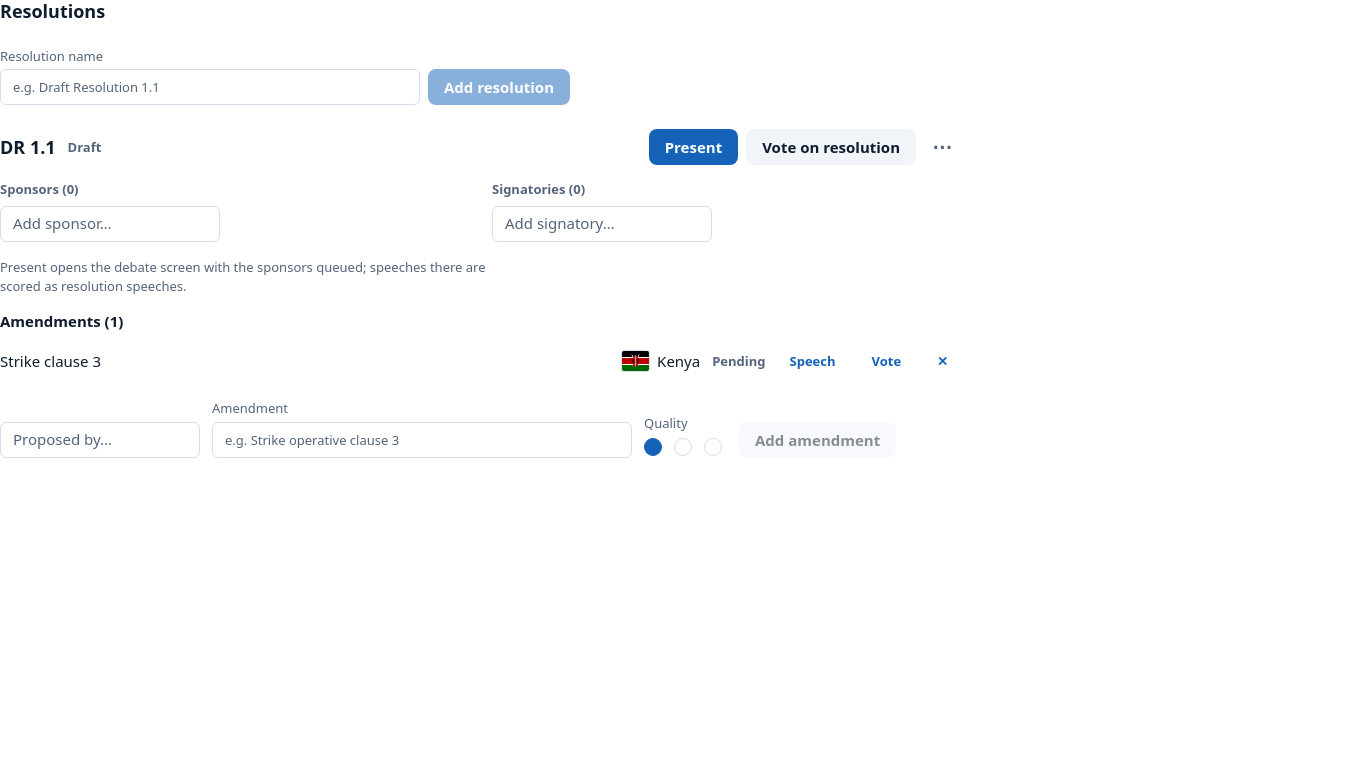
Test: ResolutionsPanel › amendment speech modal
Step 1. Click the button "Speech" → (812, 361), box [778,347,848,375]
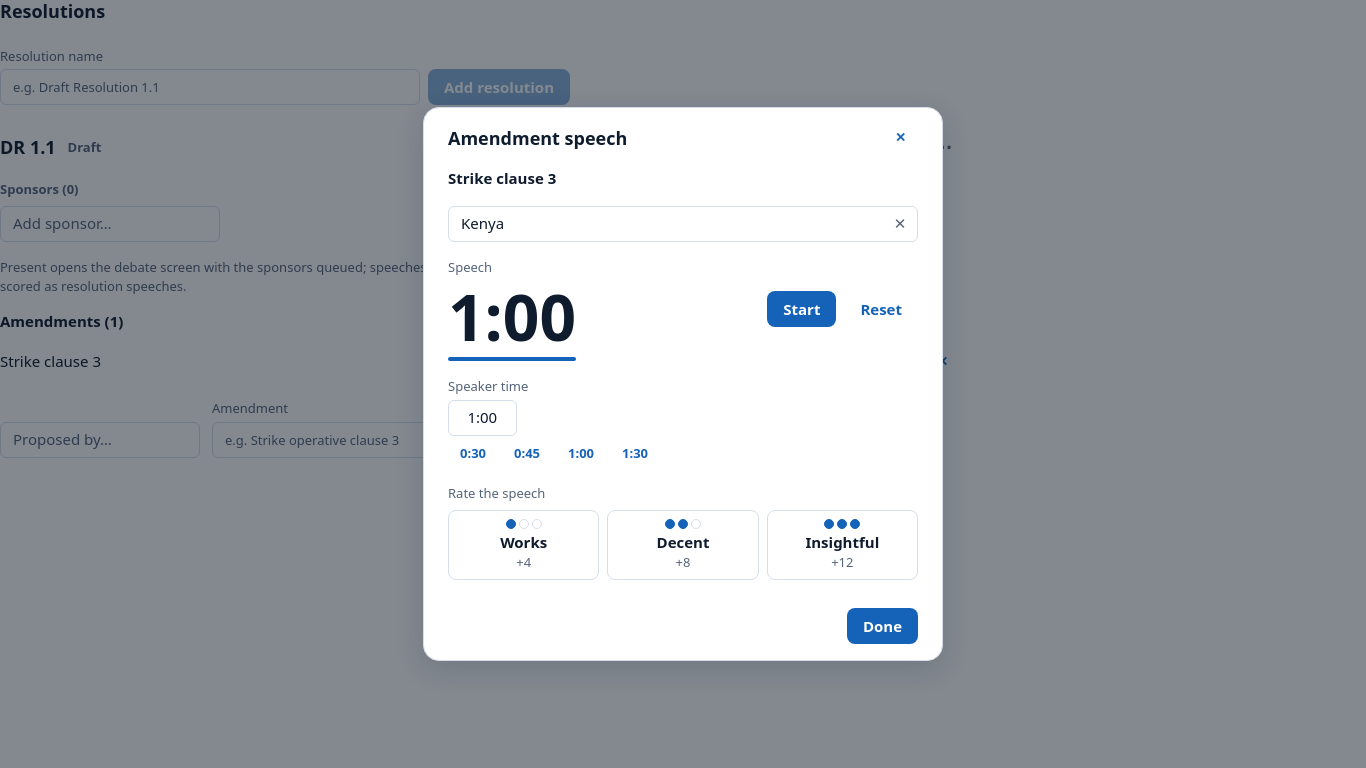
Expected: the dropdown named "Speaker" holds "Kenya", [448,206,918,242]
Step 2. Click the button "Start" → (802, 309), box [767,291,836,327]
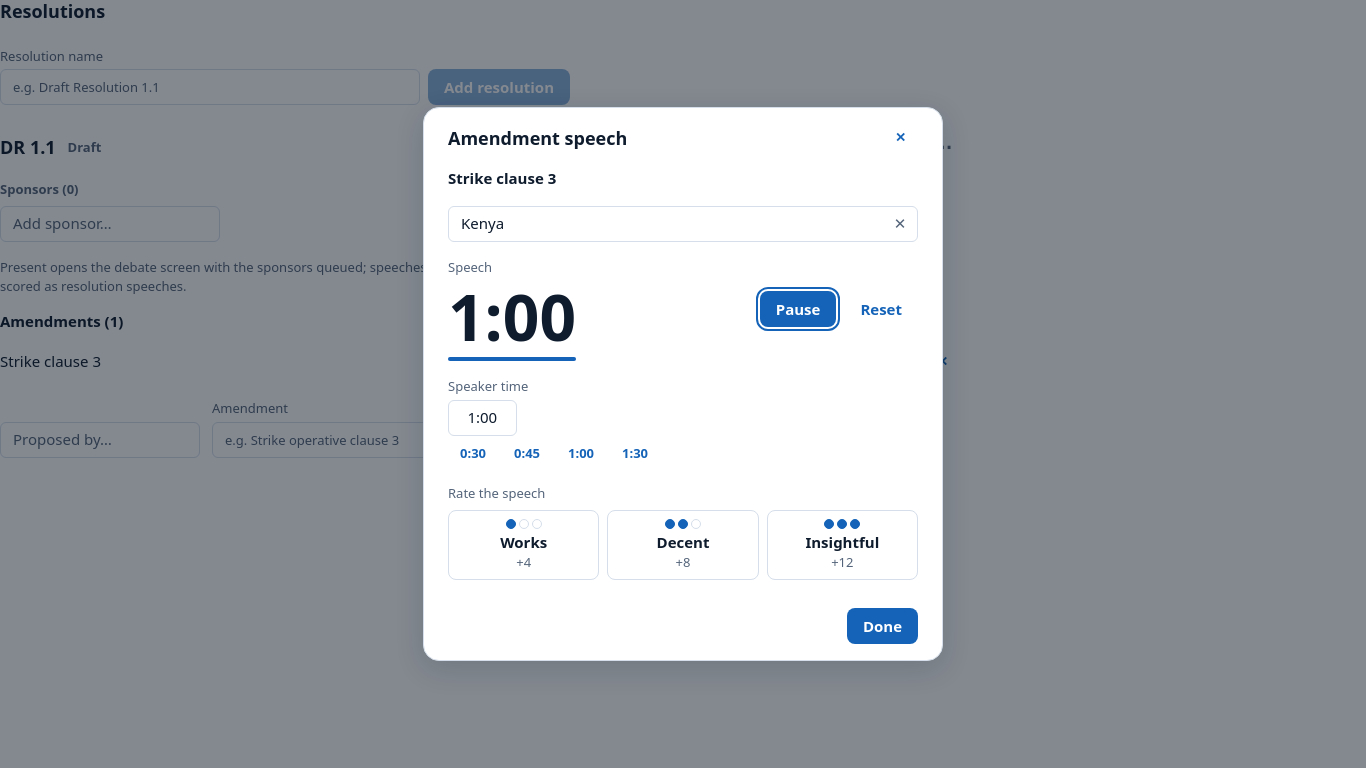
Step 3. Click the button "Decent +8" → (683, 545), box [607,510,759,580]
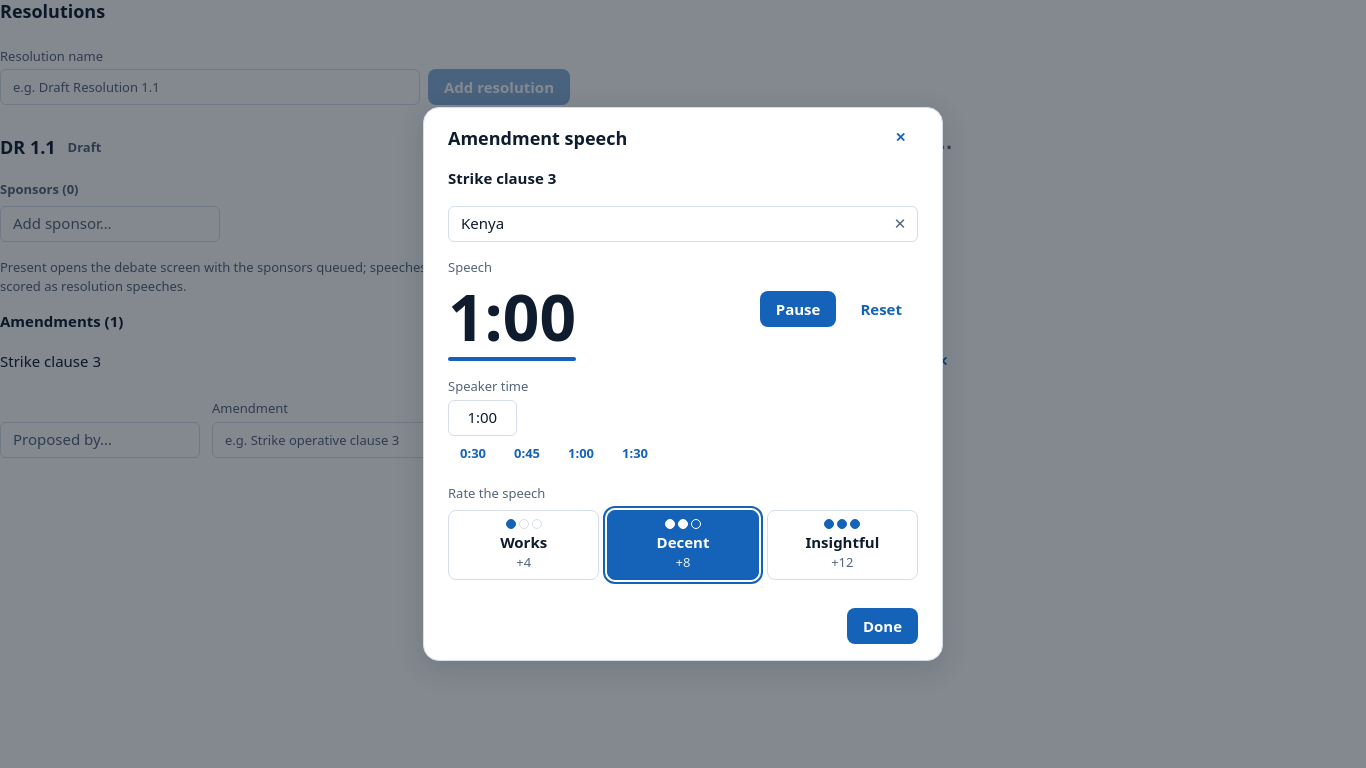
Step 4. Click the button "Insightful +12" → (842, 545), box [767,510,918,580]
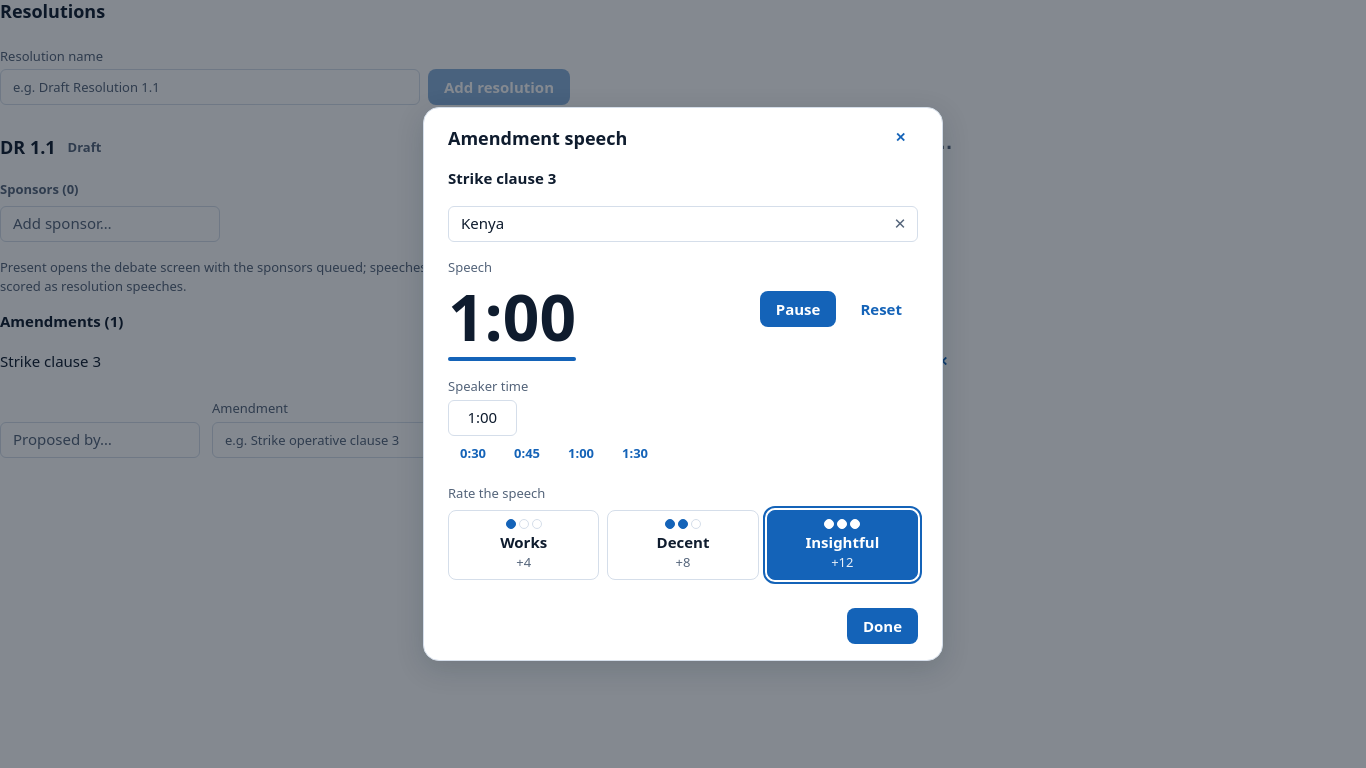
Step 5. Click the button "Done" → (882, 626), box [847,608,918,644]
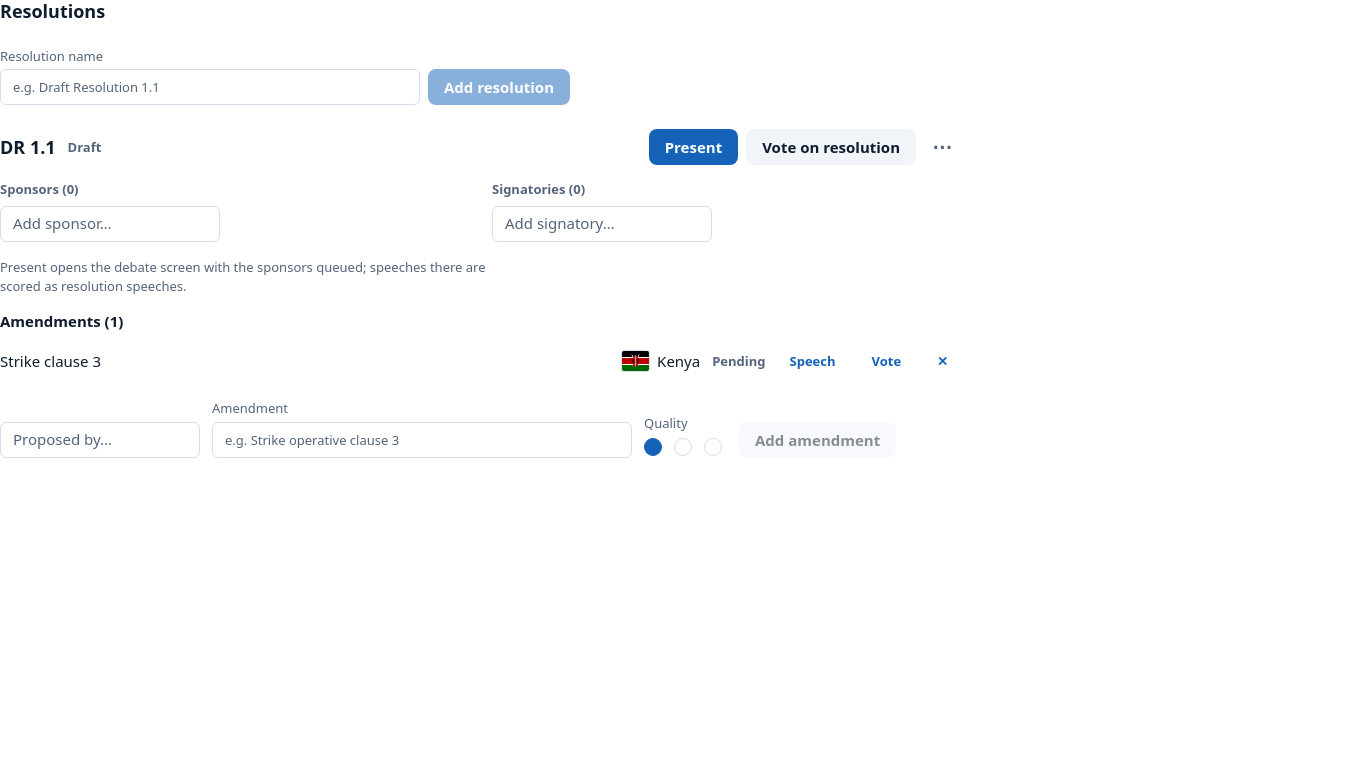
Expected: the dialog is gone
